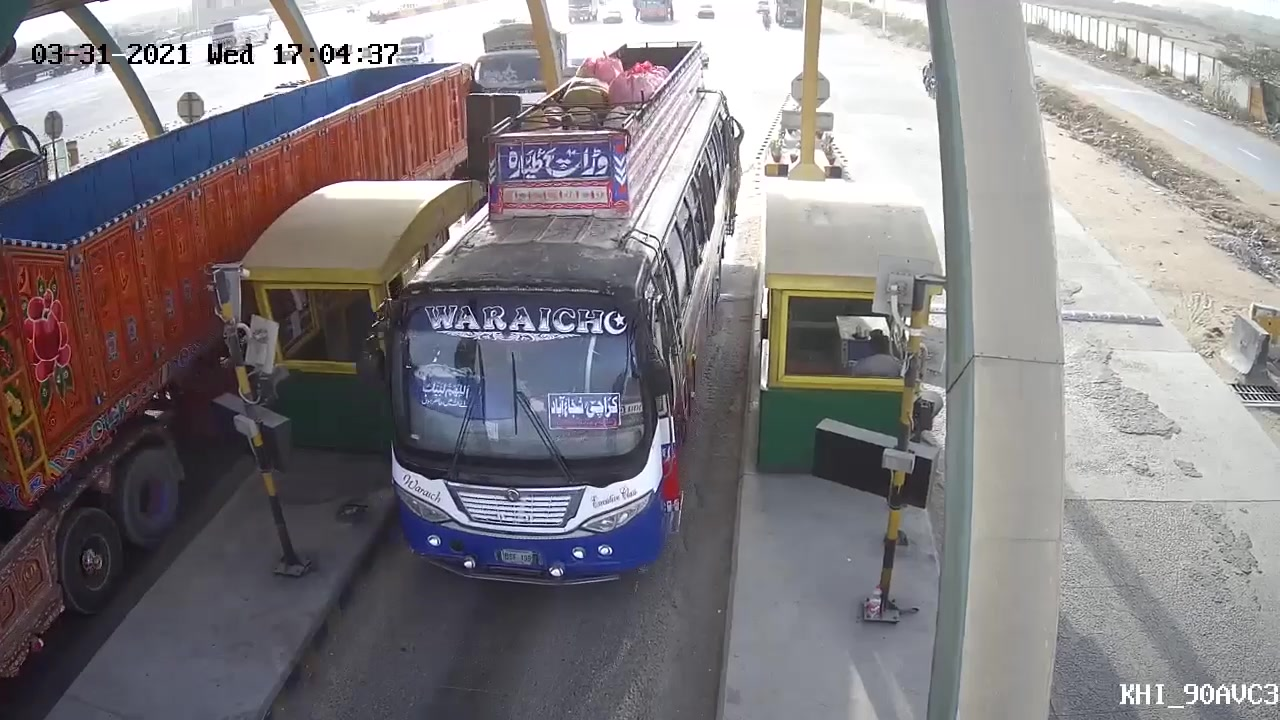F4: (389, 51, 750, 596)
